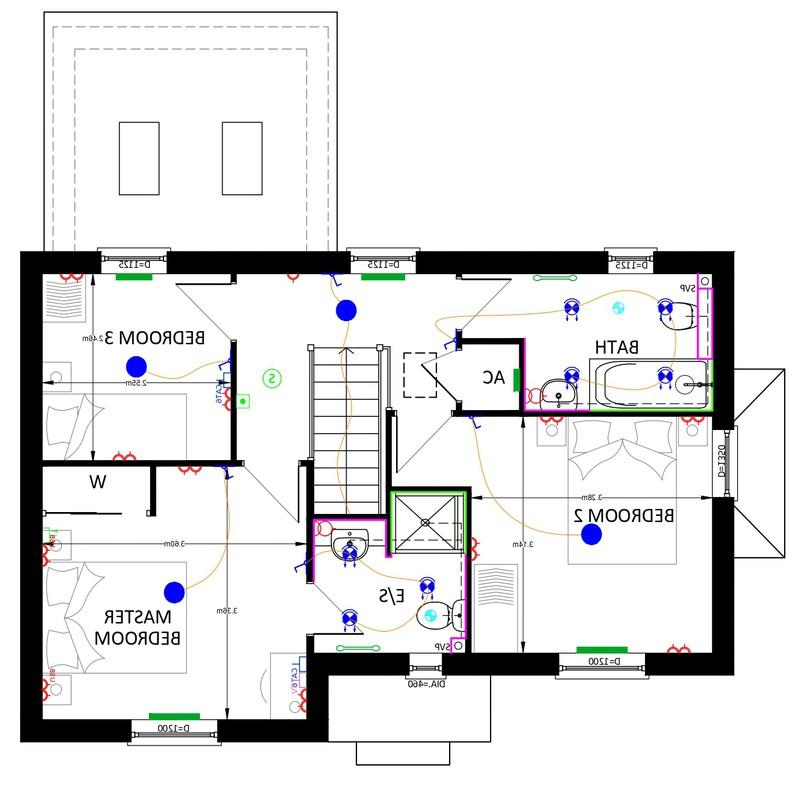Cat 6 Data Socket: (286, 649, 308, 671), (217, 370, 231, 391)
Ceiling Mounted Continuous Extract Fan With Boost Mode Activated By Light Switch: (590, 399, 714, 413), (700, 357, 712, 411), (606, 298, 632, 321), (420, 606, 443, 624)
Co-Ax TV Socket: (284, 671, 308, 687)
Double Socket: (48, 270, 99, 289), (537, 415, 574, 435), (673, 413, 711, 431), (661, 640, 699, 656), (291, 686, 308, 717), (469, 534, 486, 564), (107, 448, 153, 459), (170, 465, 212, 477), (223, 384, 231, 419)
Full Height Tiling: (387, 486, 466, 552)
Light Switch: (458, 413, 495, 432), (205, 349, 231, 373), (319, 270, 351, 287), (220, 462, 238, 489), (287, 557, 305, 584), (439, 331, 456, 359)
Low Energy Downlighter: (648, 291, 684, 328), (554, 291, 592, 325), (408, 565, 442, 602), (332, 606, 369, 639), (341, 537, 367, 571), (560, 363, 589, 393), (654, 363, 677, 394)
Low Energy Pendant Light: (577, 520, 612, 553), (157, 576, 191, 608), (333, 294, 361, 328), (122, 353, 149, 385)
Mains Wired Smoke Detector: (261, 366, 285, 392)
Programmable Room Thermostat: (236, 385, 252, 422)
Radiator: (561, 640, 642, 656), (350, 270, 415, 283), (110, 271, 161, 286), (147, 711, 205, 722), (505, 362, 521, 399)
Shaver Socket: (310, 518, 340, 538), (525, 384, 551, 407)
Single Socket: (278, 273, 308, 283)
Telephone Socket: (43, 522, 62, 543)
USB Double Socket: (40, 664, 59, 709), (39, 542, 61, 574)
